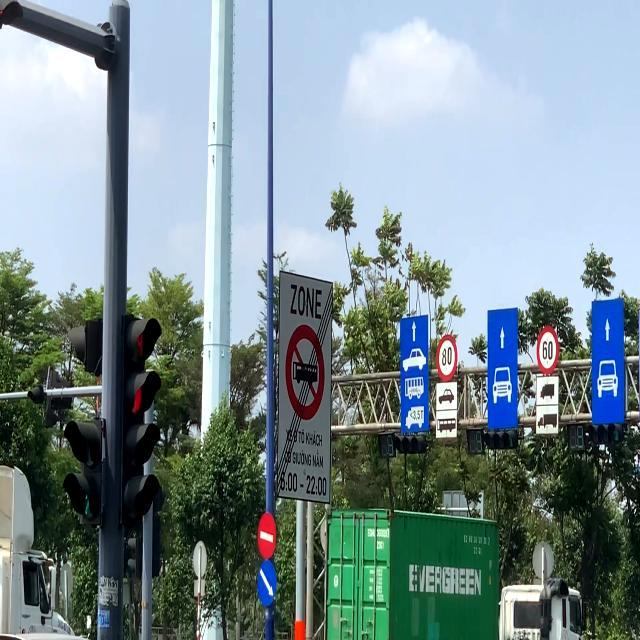Cam di nguoc chieu: (256, 510, 278, 560)
Toc do toi da cho phep: (536, 325, 558, 373), (437, 334, 457, 381)
Vong chuong ngai vat sang phai: (256, 559, 278, 608)
